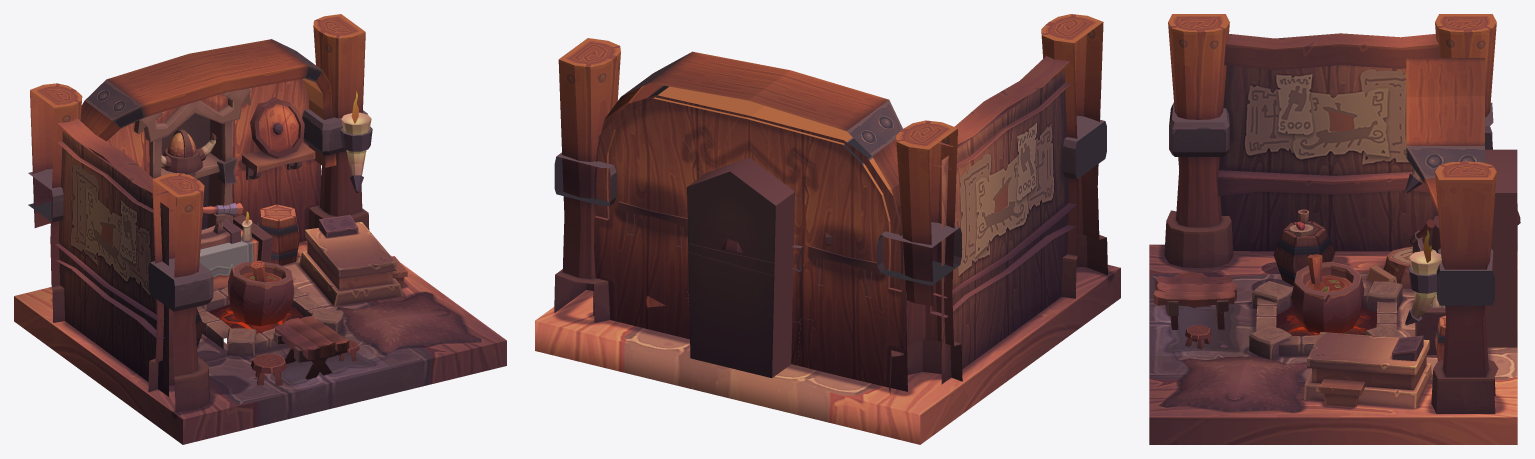
File: Viking.obj
3 renders of one model, left to right at view 1: azimuth 30°, elevation 25°; view 2: azimuth 150°, elevation 25°; view 3: azimuth 270°, elevation 25°, orthographic. The views are drawn at different scales.
Parts seen in each view (by area): view 1: mesh_all1; view 2: mesh_all1; view 3: mesh_all1.
Boxes of the visible parts, left/top/right/bottom form: mesh_all1: left=14, top=14, right=506, bottom=444; mesh_all1: left=535, top=14, right=1120, bottom=444; mesh_all1: left=1149, top=14, right=1520, bottom=444.
Bounding box in the file's own units: 26.31 × 18.6 × 23.91.
